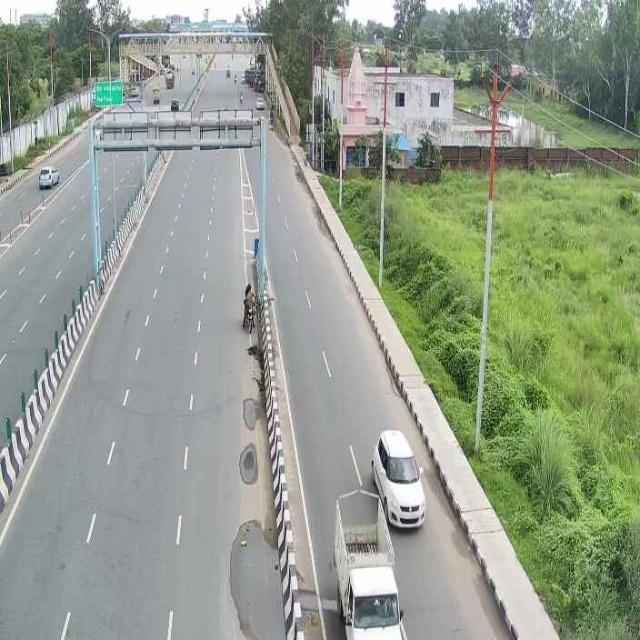car: (331, 491, 406, 640), (371, 426, 426, 531)
